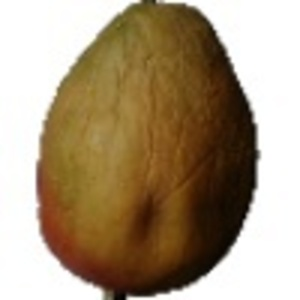mamão: (25, 3, 261, 292)
